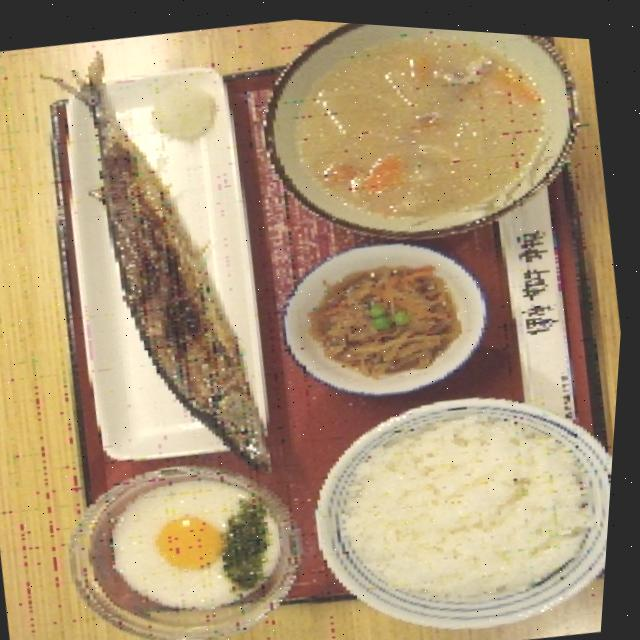熟制海鲜: (32, 16, 300, 495)
